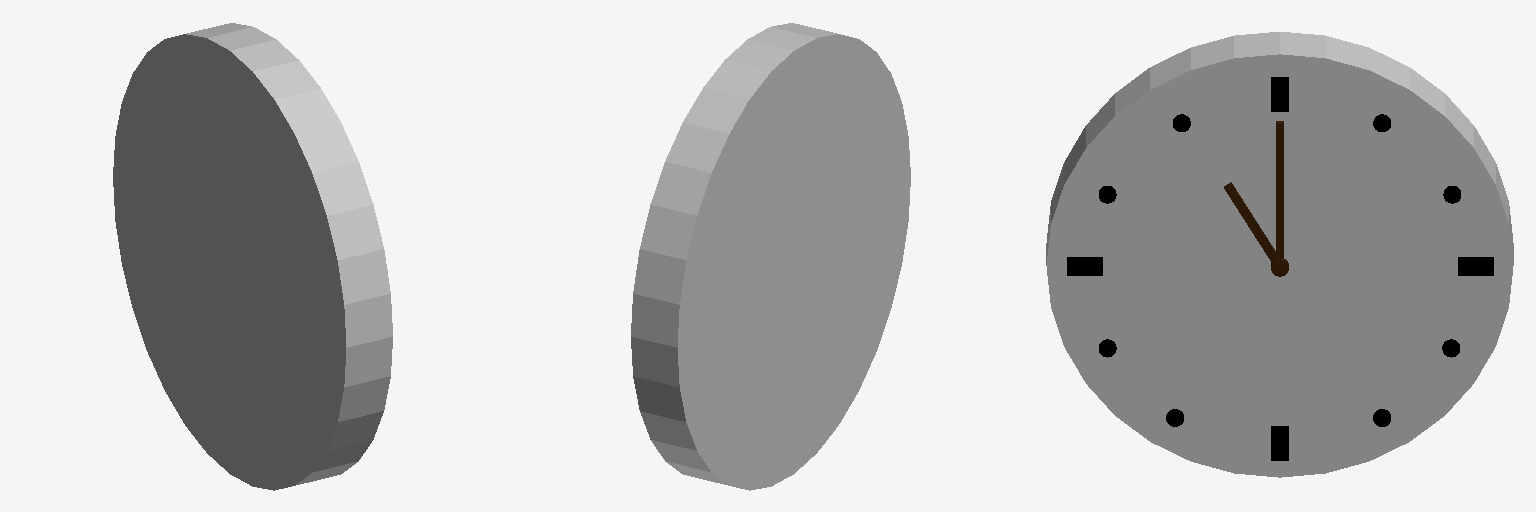
Rendered from KlokAvond.obj.
3 views of the same model, side by side, from view 1: azimuth 30°, elevation 25°; view 2: azimuth 150°, elevation 25°; view 3: azimuth 270°, elevation 25° (orthographic).
Parts seen in each view (by area): view 1: KlokBasis_Cylinder; view 2: KlokBasis_Cylinder; view 3: KlokBasis_Cylinder, GroteWijzer_Cube.006, KleinWijzer_Cube.007, EenVanVier.002_Cube.003, EenVanVier.003_Cube.004, EenVanVier_Cube.001, EenVanVier.001_Cube.002.
Part boxes in pixels (bbox=[...]): KlokBasis_Cylinder: bbox=[113, 23, 392, 490]; KlokBasis_Cylinder: bbox=[631, 23, 910, 490]; KlokBasis_Cylinder: bbox=[1046, 32, 1513, 477]; GroteWijzer_Cube.006: bbox=[1276, 121, 1283, 259]; KleinWijzer_Cube.007: bbox=[1224, 182, 1278, 262]; EenVanVier.002_Cube.003: bbox=[1458, 257, 1493, 275]; EenVanVier.003_Cube.004: bbox=[1067, 257, 1102, 275]; EenVanVier_Cube.001: bbox=[1271, 77, 1288, 111]; EenVanVier.001_Cube.002: bbox=[1271, 426, 1288, 460].
Bounding box in the file's own units: 0.0338 × 0.26 × 0.26.